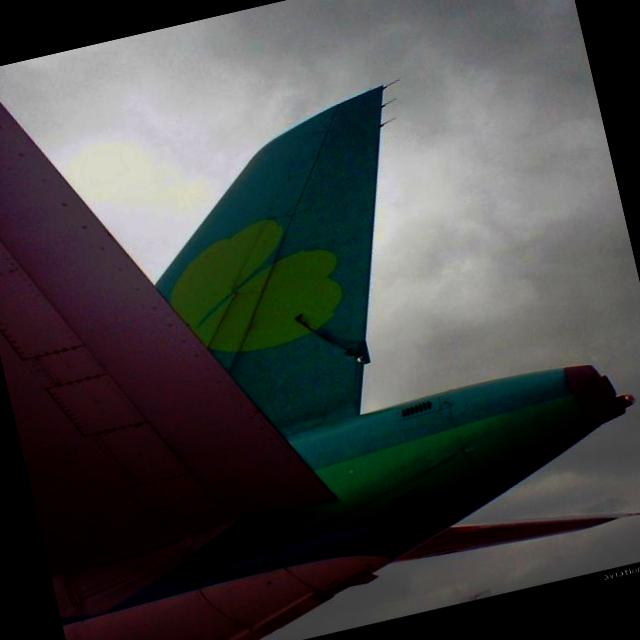crack: (293, 298, 375, 378)
